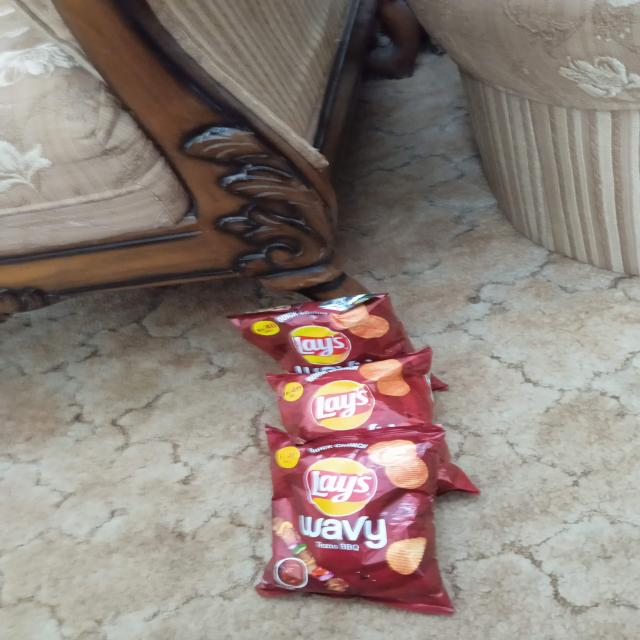Plastic: (266, 430, 449, 612), (234, 297, 411, 366), (275, 368, 437, 426)
